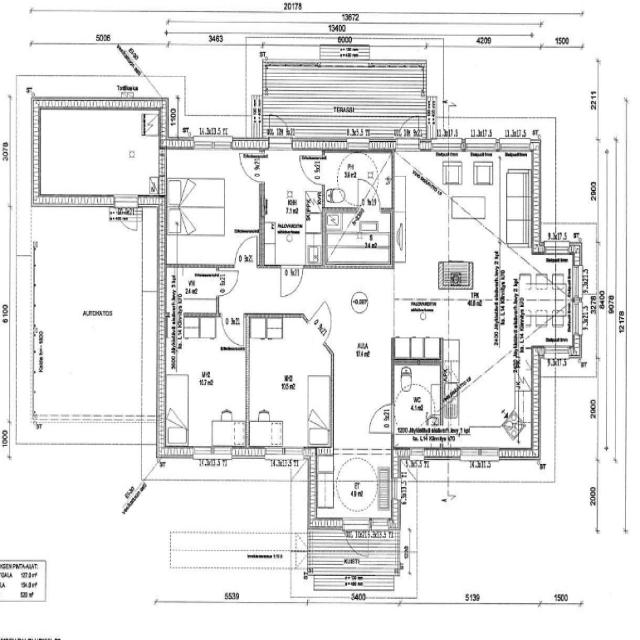door: (341, 518, 372, 563), (266, 112, 294, 149), (278, 262, 305, 300), (220, 312, 247, 350), (314, 297, 334, 348), (366, 401, 395, 436), (233, 233, 260, 267), (115, 195, 139, 233), (395, 115, 421, 148), (299, 152, 324, 186), (238, 152, 264, 184), (216, 268, 240, 298)
window: (190, 136, 235, 154), (459, 445, 503, 463), (429, 138, 466, 158), (29, 328, 42, 383), (497, 138, 532, 157), (464, 138, 500, 156)
zone: (392, 143, 530, 345), (37, 109, 164, 198), (165, 314, 248, 448), (247, 315, 333, 444), (166, 149, 262, 263), (444, 344, 534, 446), (259, 148, 323, 268), (312, 446, 399, 526), (322, 150, 393, 209), (322, 214, 394, 270), (392, 362, 442, 434), (532, 253, 567, 345), (170, 266, 221, 318), (248, 419, 284, 450)
